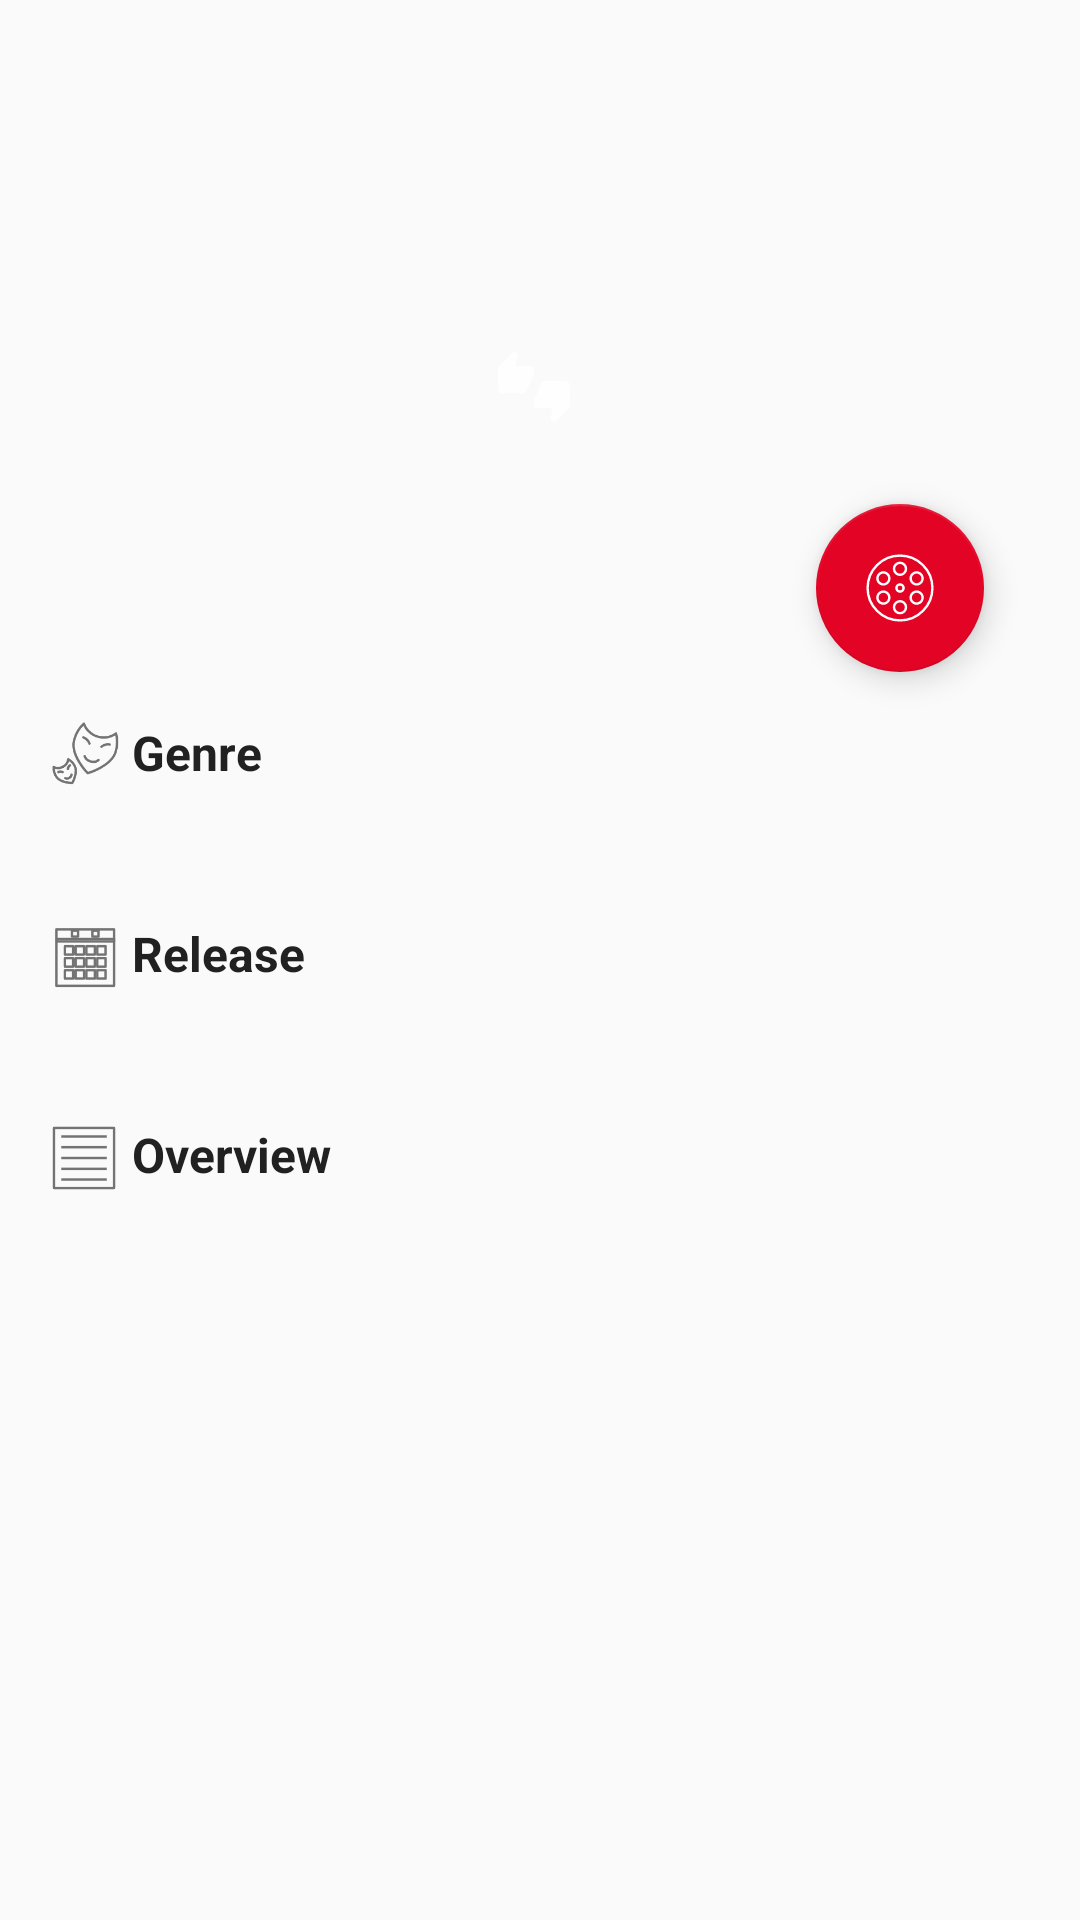

Where to tap for icons on this 1080px×1920px app screen, as (x,y):
movieroll: (900,588)
